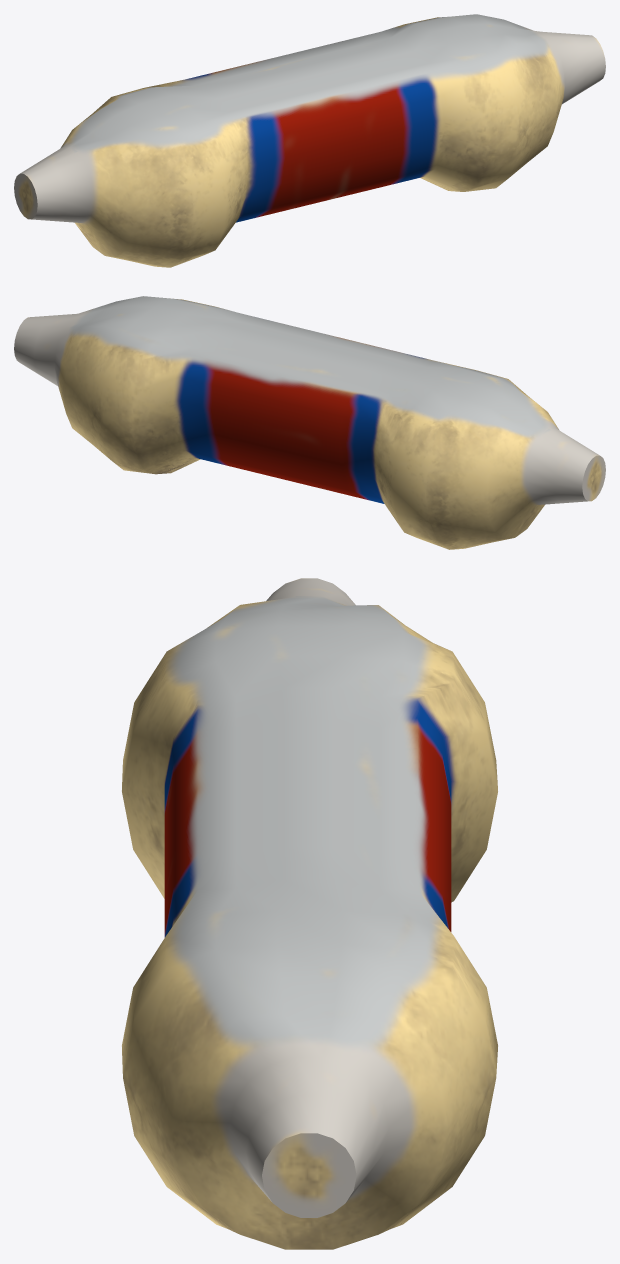
The model's file is paddle.fbx.
3 renders of one model, top to bottom at view 1: azimuth 30°, elevation 25°; view 2: azimuth 150°, elevation 25°; view 3: azimuth 270°, elevation 25°, orthographic. The views are drawn at different scales.
Parts seen in each view (by area): view 1: Cylinder001; view 2: Cylinder001; view 3: Cylinder001.
Boxes of the visible parts, x1=… form: Cylinder001: x1=14, y1=14, x2=605, y2=267; Cylinder001: x1=14, y1=296, x2=605, y2=549; Cylinder001: x1=122, y1=578, x2=497, y2=1249.
Size of the model in its own units: 349 by 88.69 by 100.
